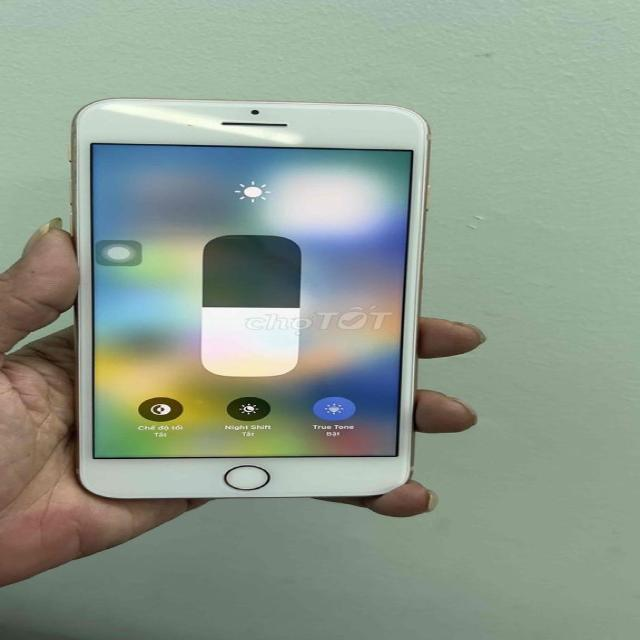gen_7_8: (41, 95, 433, 508)
